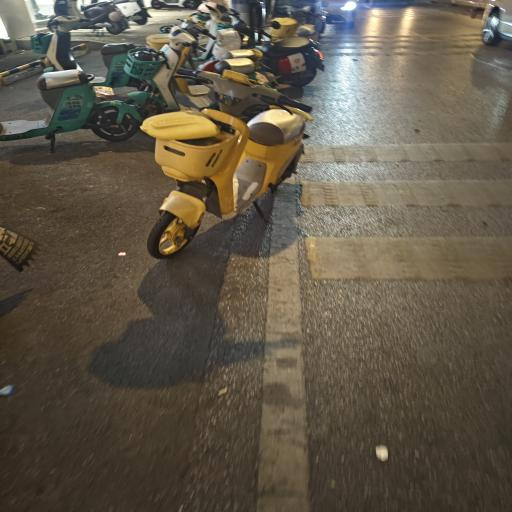car: (17, 156, 304, 367), (0, 36, 100, 117), (147, 32, 401, 55), (44, 55, 50, 166)
